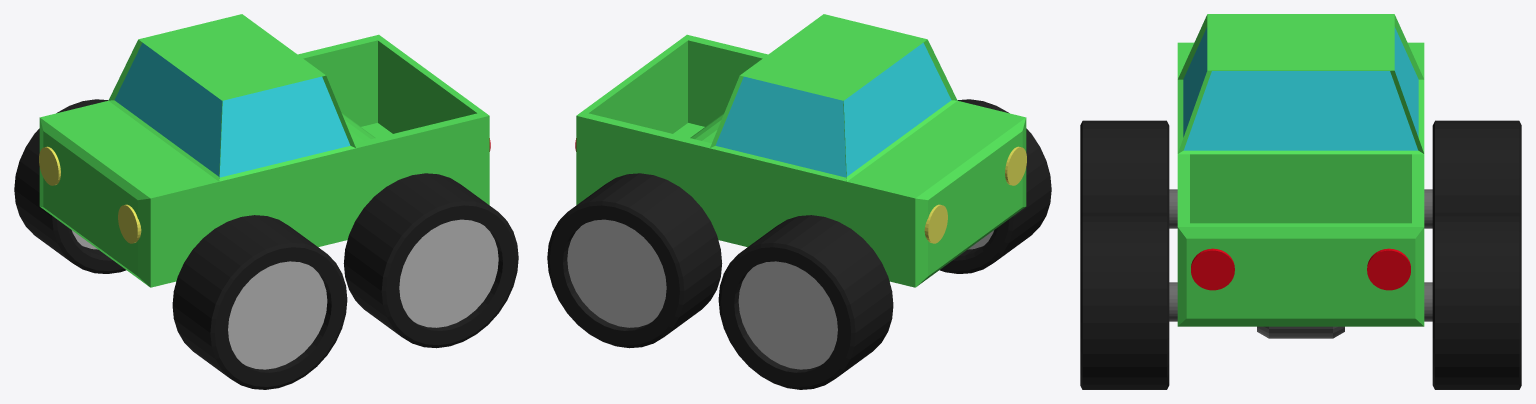
Rendered from Car Wheels.fbx.
The picture shows the model from 3 angles, left to right: view 1: azimuth 30°, elevation 25°; view 2: azimuth 150°, elevation 25°; view 3: azimuth 270°, elevation 25°; orthographic projection. The views are drawn at different scales.
Visible parts, largest first — view 1: Body, Cylinder.008, Cylinder.014, Cylinder.007, Cylinder.011, Cylinder.010; view 2: Body, Cylinder.009, Cylinder.007, Cylinder.014, Cylinder.010, Cylinder.011; view 3: Body, Cylinder.009, Cylinder.008, Cylinder.007, Cylinder.014, Cylinder.012, Cylinder.013, Cylinder.016, Cylinder.005, Cylinder.004.
Boxes of the visible parts, <box> form: Body: <box>39,14,489,287</box>; Cylinder.008: <box>343,173,518,348</box>; Cylinder.014: <box>172,215,347,389</box>; Cylinder.007: <box>14,99,126,273</box>; Cylinder.011: <box>118,204,141,243</box>; Cylinder.010: <box>39,146,60,185</box>; Body: <box>576,14,1026,287</box>; Cylinder.009: <box>547,173,722,348</box>; Cylinder.007: <box>718,215,893,389</box>; Cylinder.014: <box>939,99,1051,273</box>; Cylinder.010: <box>924,204,947,243</box>; Cylinder.011: <box>1005,146,1026,185</box>; Body: <box>1177,14,1424,326</box>; Cylinder.009: <box>1432,214,1521,389</box>; Cylinder.008: <box>1080,214,1169,389</box>; Cylinder.007: <box>1432,120,1521,217</box>; Cylinder.014: <box>1080,120,1169,217</box>; Cylinder.012: <box>1367,248,1410,290</box>; Cylinder.013: <box>1191,248,1234,290</box>; Cylinder.016: <box>1257,326,1344,338</box>; Cylinder.005: <box>1169,189,1432,228</box>; Cylinder.004: <box>1169,282,1432,321</box>.
Bounding box in the file's own units: 206 × 137 × 200.
